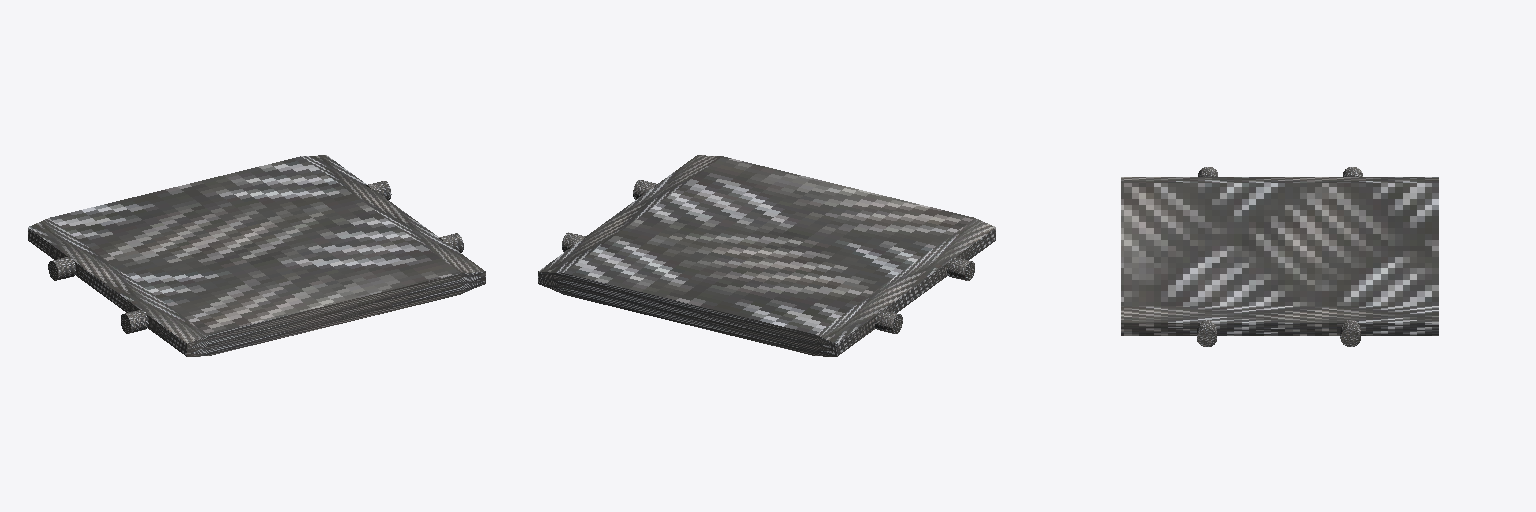
3 renders of one model, left to right at view 1: azimuth 30°, elevation 25°; view 2: azimuth 150°, elevation 25°; view 3: azimuth 270°, elevation 25°, orthographic.
Parts seen in each view (by area): view 1: Cube, Cube.001; view 2: Cube, Cube.001; view 3: Cube, Cube.001.
Boxes of the visible parts, box(x1,y1,x2,y2) form: Cube: box(28, 155, 485, 356); Cube.001: box(48, 181, 463, 333); Cube: box(538, 155, 995, 356); Cube.001: box(562, 180, 974, 333); Cube: box(1121, 177, 1438, 335); Cube.001: box(1197, 167, 1362, 346).
Size of the model in its own units: 16.08 by 1 by 13.36.
Materials: 4 (1 with a texture image).